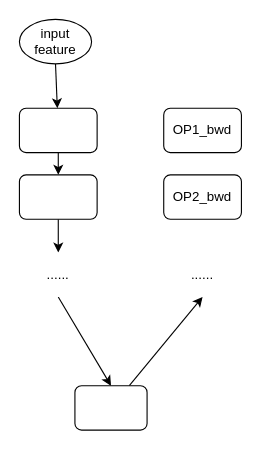
This 261x450 diagram has some shape labels left out. Here are the shapes that lost their labels. From the top down, the centre of each, then its label:
At pixel 57 130: "OP1".
At pixel 57 196: "OP2".
At pixel 110 407: "loss".
